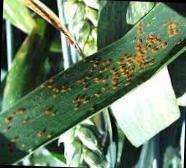Wheat: (33, 16, 179, 115)
